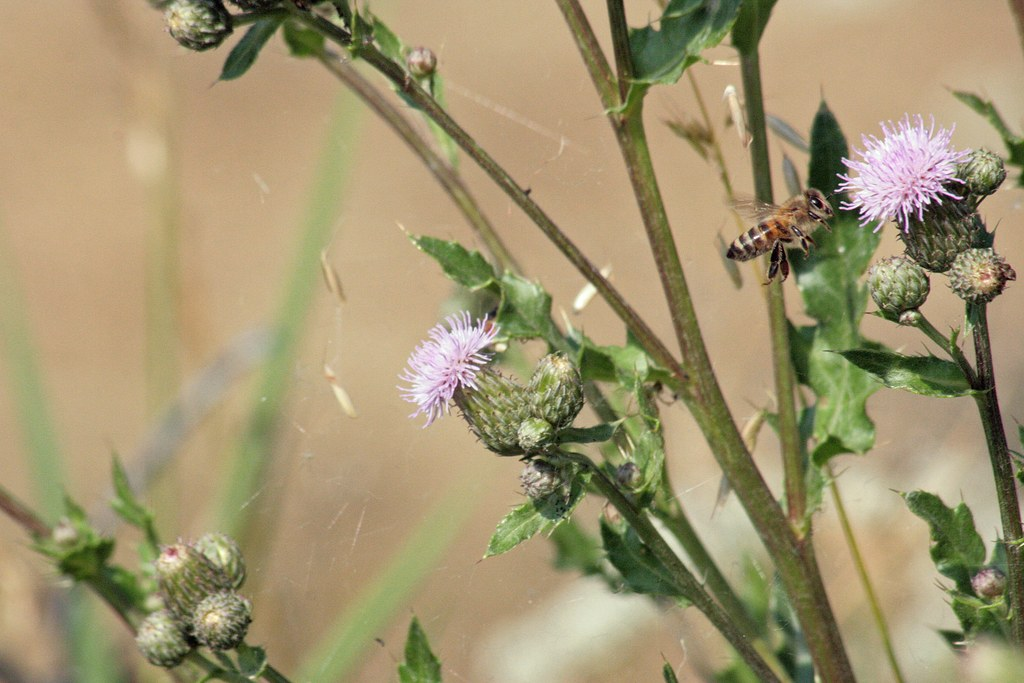bee: (725, 163, 865, 287)
insect: (831, 115, 991, 272), (406, 306, 492, 429)
